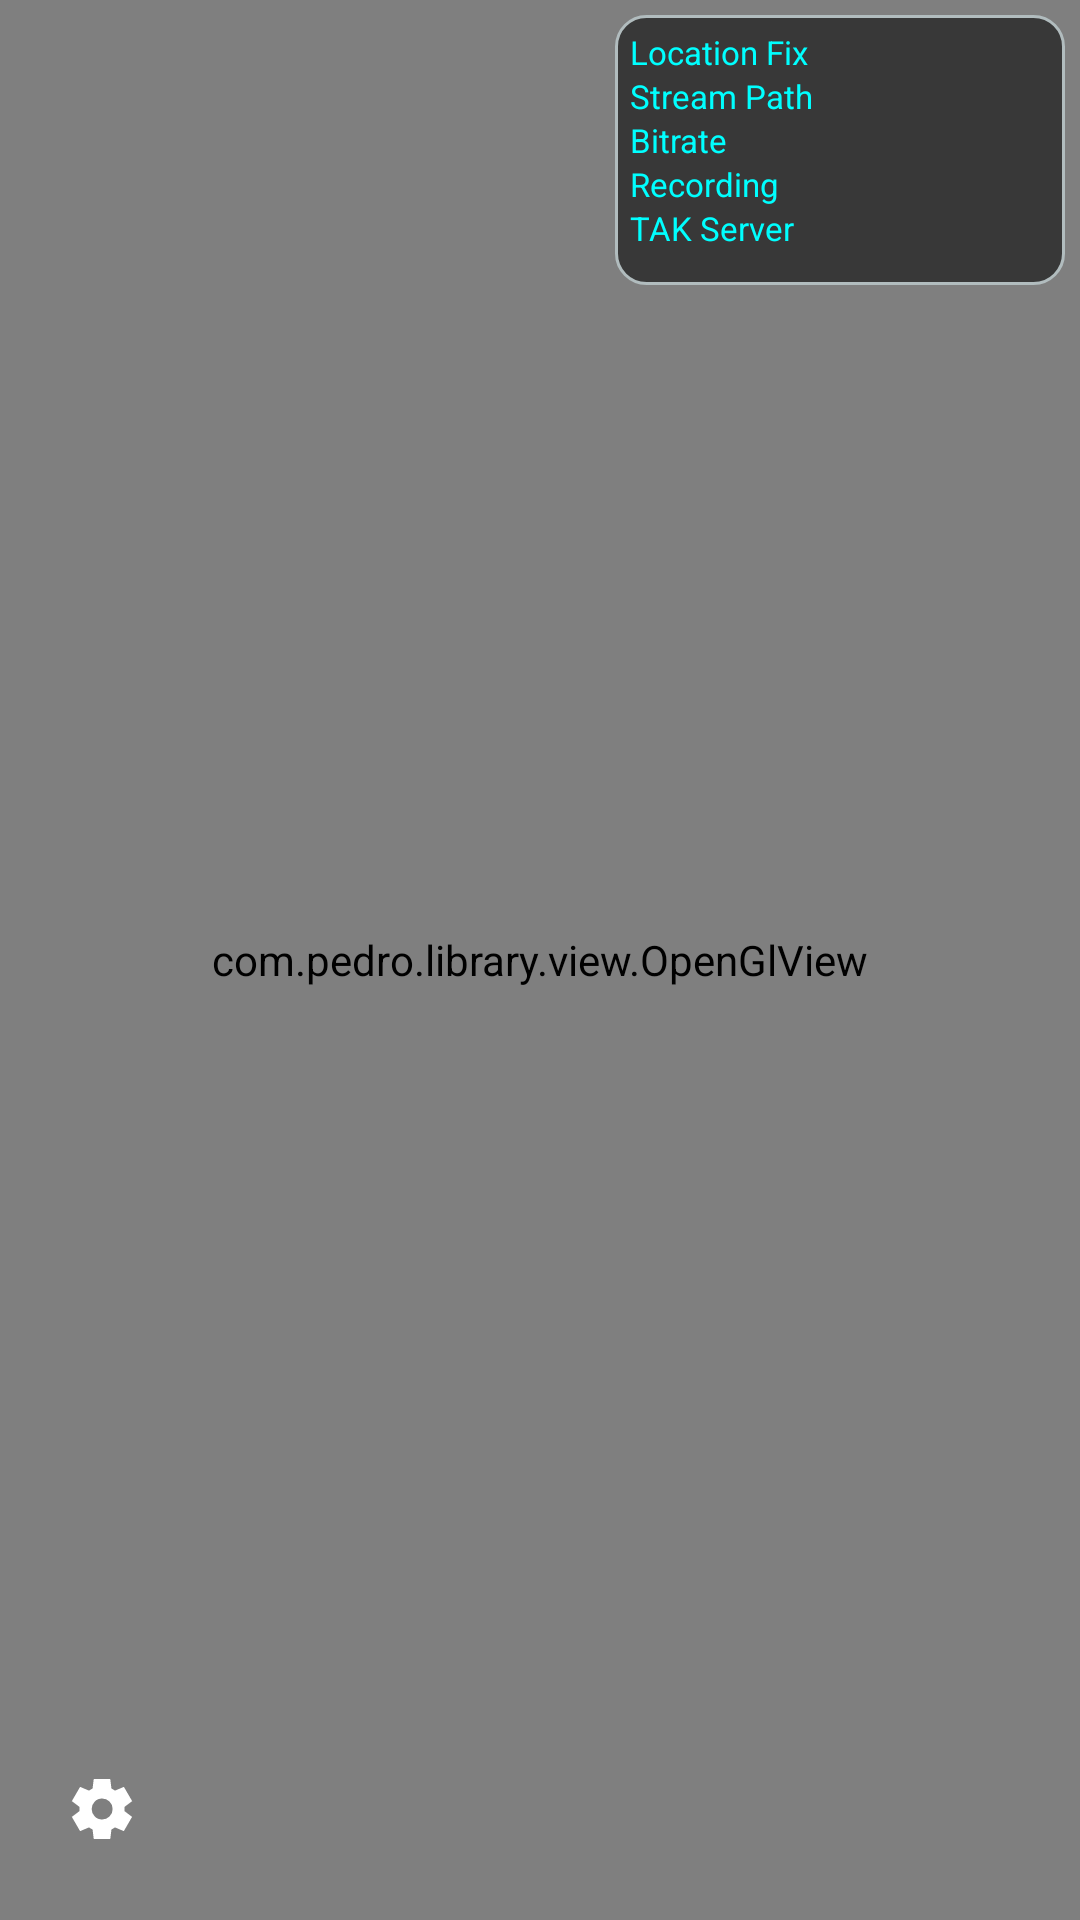

Named icons in this screenshot (1080*1920) and their centers, point (x, y):
settings: point (102, 1809)
